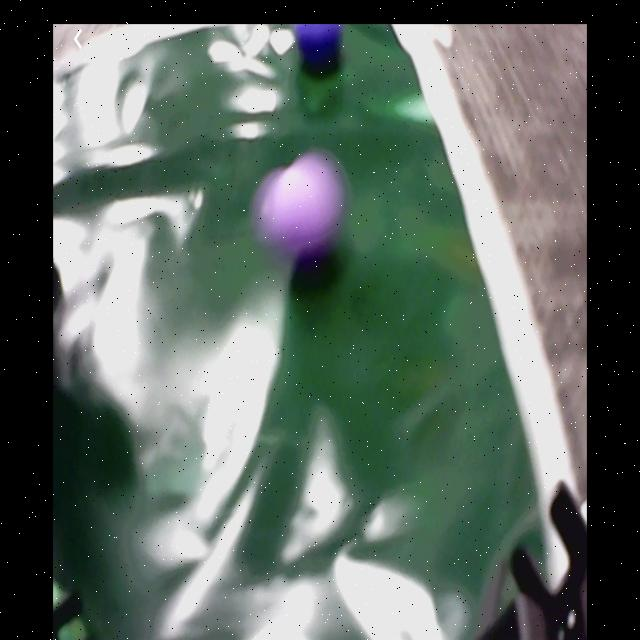ball: (280, 155, 341, 252), (300, 25, 346, 64)
